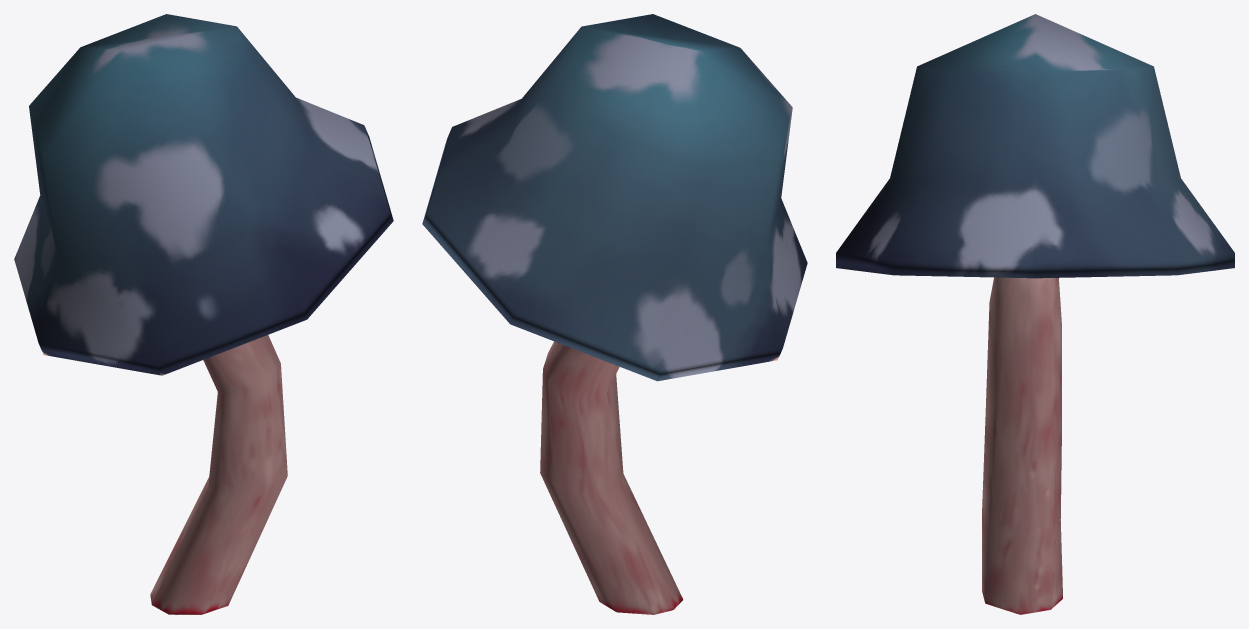
File: PROP_BendShroom_2.fbx
3 renders of one model, left to right at view 1: azimuth 30°, elevation 25°; view 2: azimuth 150°, elevation 25°; view 3: azimuth 270°, elevation 25°, orthographic. The views are drawn at different scales.
Visible parts, largest first — view 1: PROP_BendShroom_2; view 2: PROP_BendShroom_2; view 3: PROP_BendShroom_2.
Boxes of the visible parts, bbox=[...] form: PROP_BendShroom_2: bbox=[14, 14, 393, 614]; PROP_BendShroom_2: bbox=[422, 14, 807, 614]; PROP_BendShroom_2: bbox=[836, 14, 1234, 614].
Size of the model in its own units: 176 by 284 by 185.
Materials: 1 (1 with a texture image).
